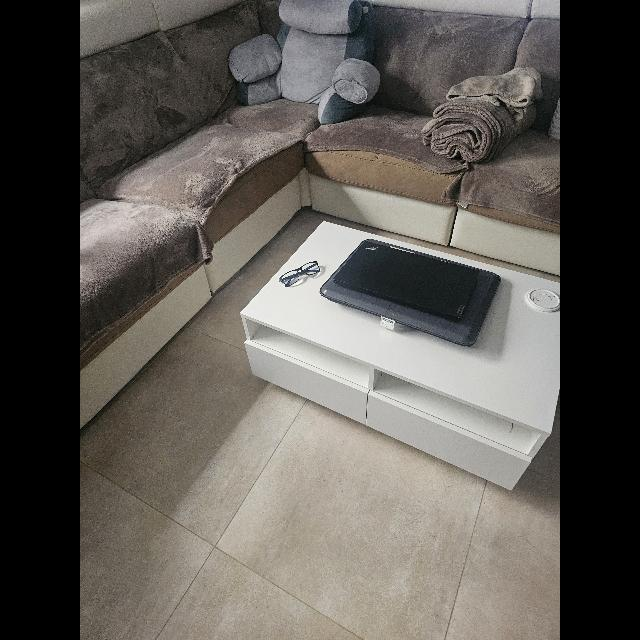glasses: (278, 261, 320, 287)
